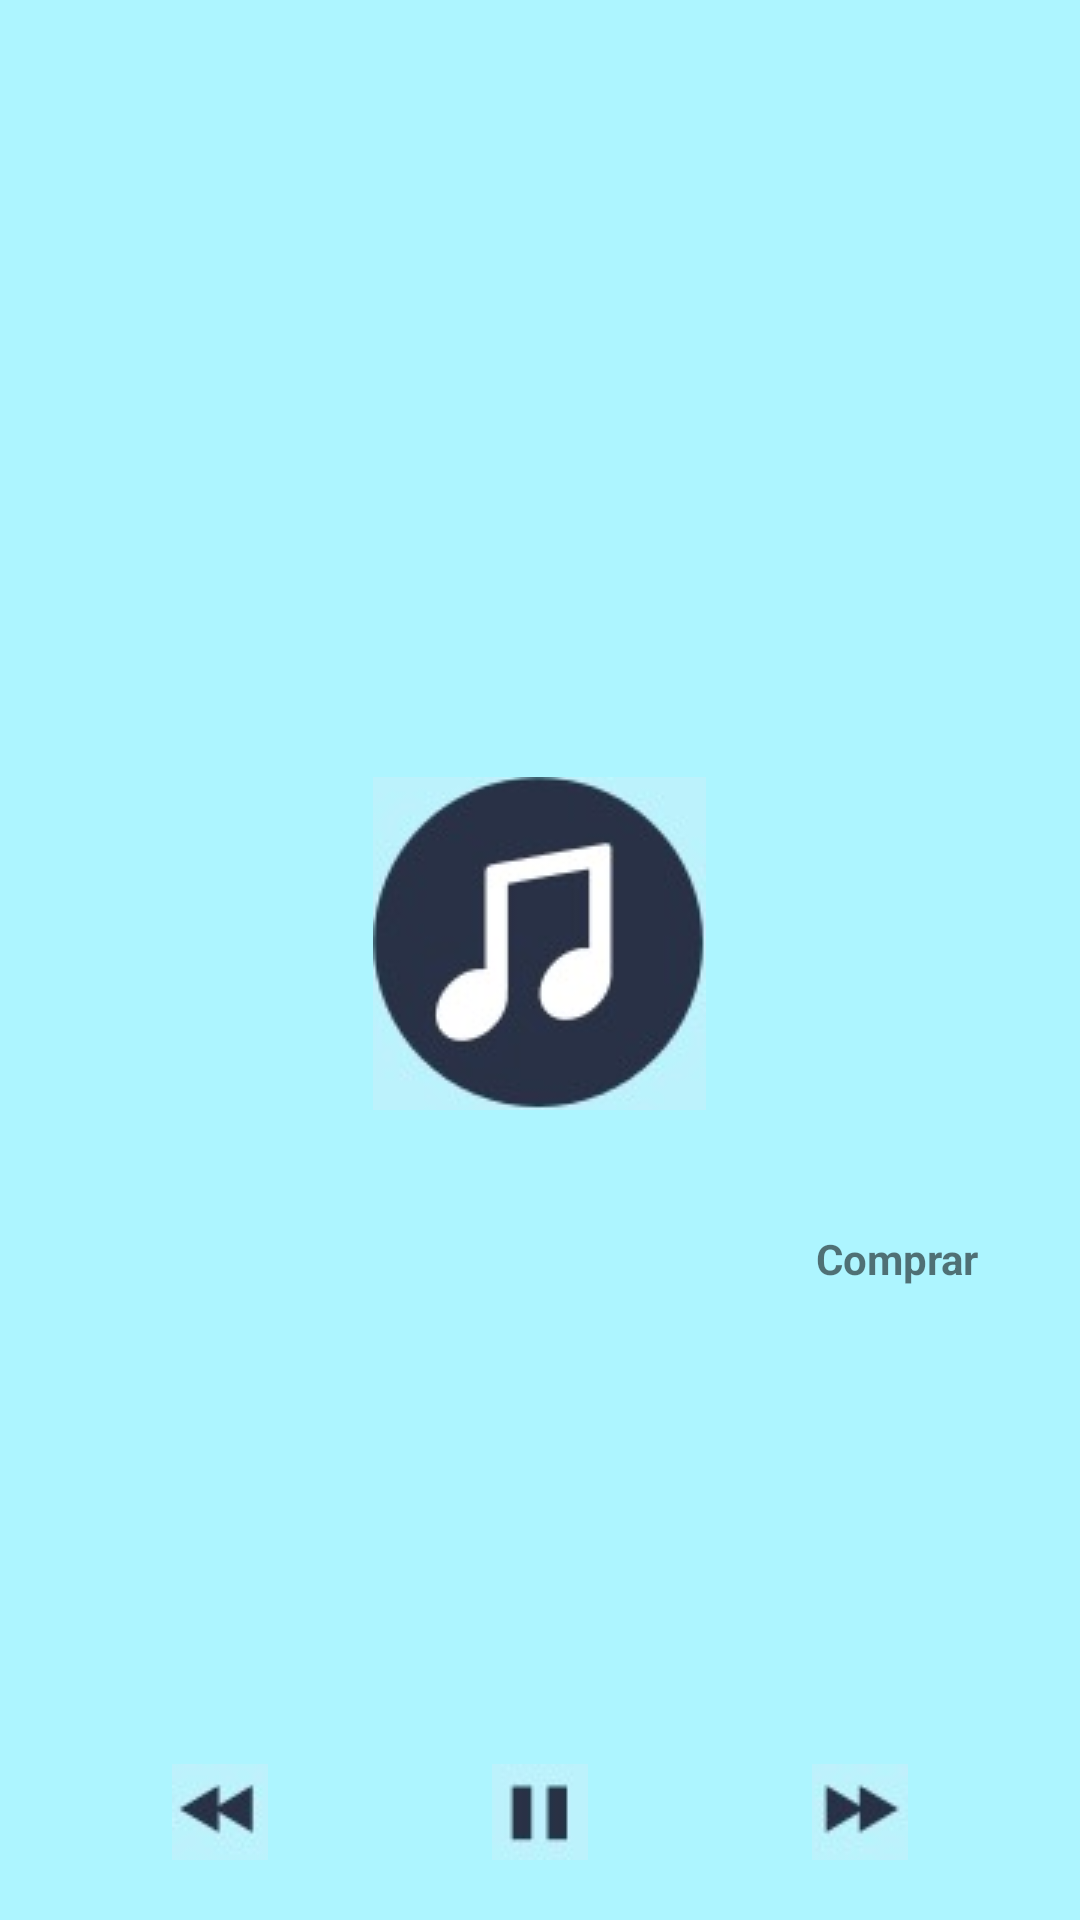

Named icons in this screenshot (1080 × 1920) and their bounding boxes, (x1, y1, x2, y2):
album: (373, 777, 706, 1110)
back: (180, 1784, 258, 1839)
next: (819, 1784, 899, 1835)
pause: (510, 1784, 569, 1845)
